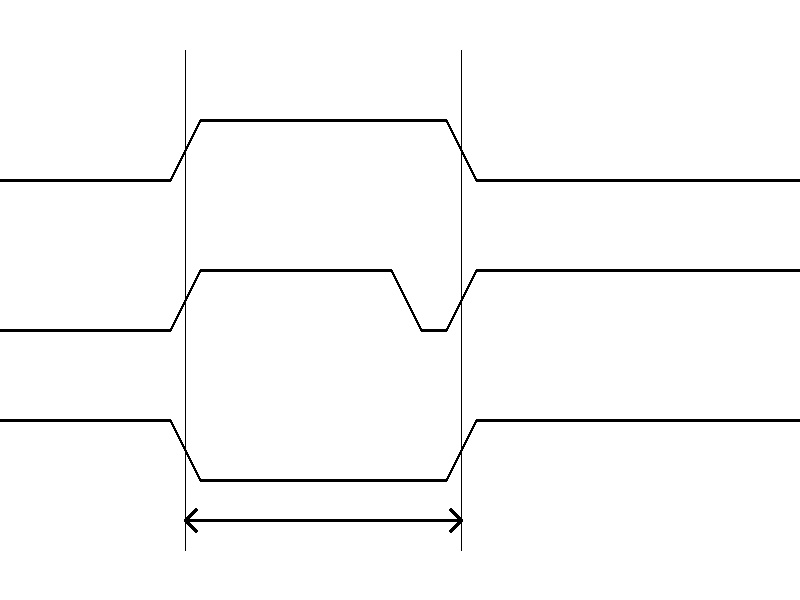double_arrow: (185, 505, 461, 535)
